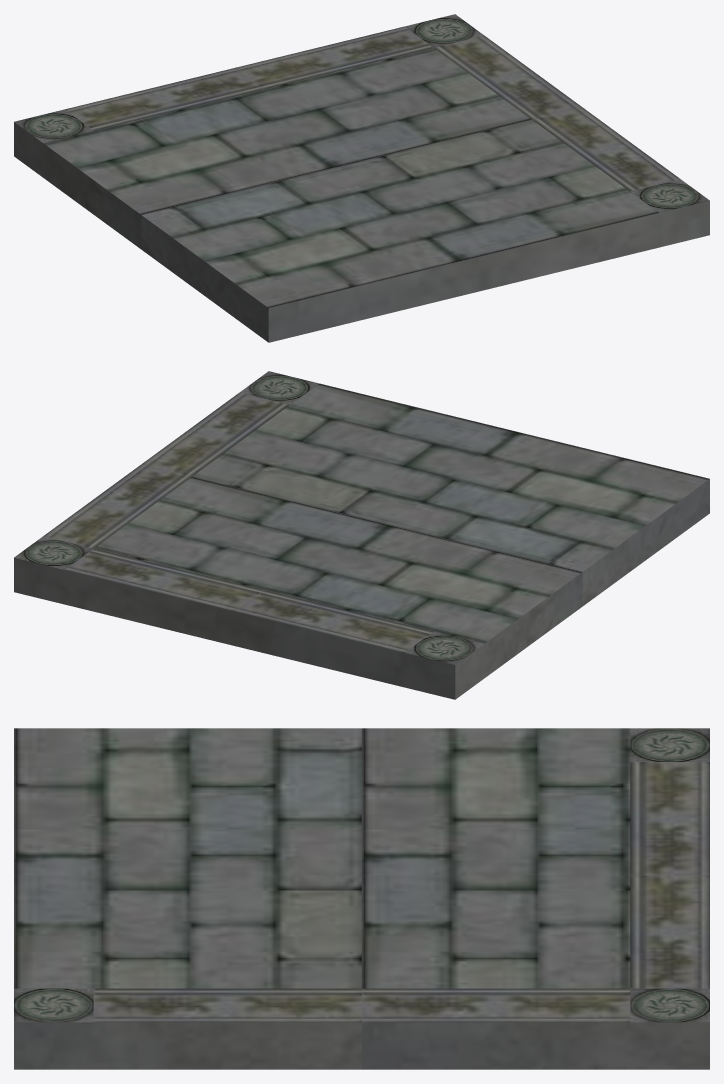
Rendered from sd_floor_large_cornertrim_tr_02.glb.
The picture shows the model from 3 angles, top to bottom: view 1: azimuth 30°, elevation 25°; view 2: azimuth 150°, elevation 25°; view 3: azimuth 270°, elevation 25°; orthographic projection. The views are drawn at different scales.
Visible parts, largest first — view 1: floor_large_cornertrim_TR_02; view 2: floor_large_cornertrim_TR_02; view 3: floor_large_cornertrim_TR_02.
Boxes of the visible parts, x1=… form: floor_large_cornertrim_TR_02: x1=14, y1=14, x2=709, y2=342; floor_large_cornertrim_TR_02: x1=14, y1=371, x2=709, y2=699; floor_large_cornertrim_TR_02: x1=14, y1=728, x2=709, y2=1069.
Bounding box in the file's own units: 4 × 0.2998 × 4.
1 material, 1 textured.
